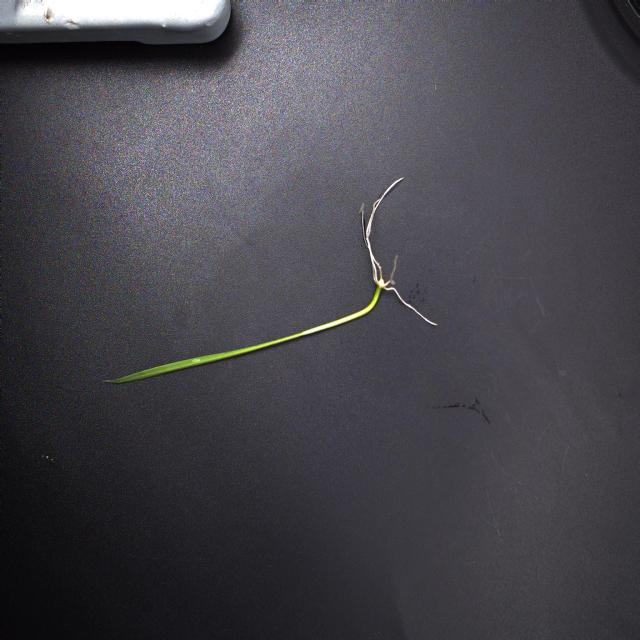leaf: (101, 329, 304, 387)
root: (355, 175, 442, 329)
steb: (304, 286, 381, 337)
